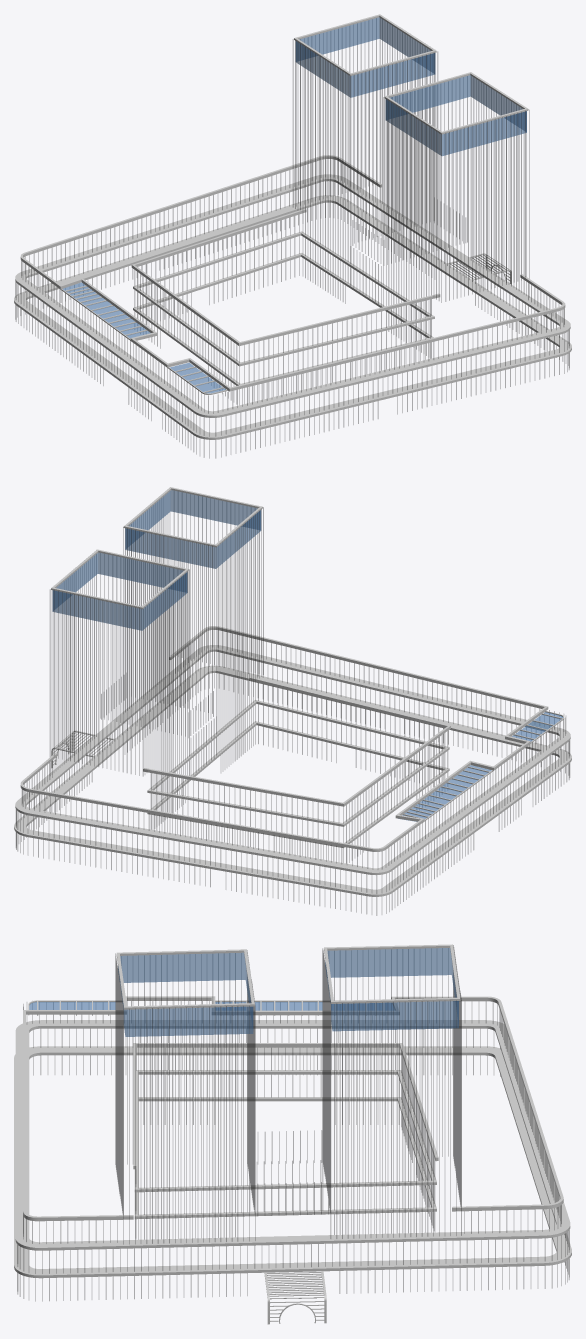
File: Border.obj
3 renders of one model, top to bottom at view 1: azimuth 30°, elevation 25°; view 2: azimuth 150°, elevation 25°; view 3: azimuth 270°, elevation 25°, orthographic. The views are drawn at different scales.
Visible parts, largest first — view 1: GlassLine1, Line18, Line19, Line22, Line20, GlassLine2, Box1536, Box1535, Line21, Rectangle02; view 2: GlassLine1, Line18, Line19, Line22, Line20, GlassLine2, Box1536, Box1535, Line21, Rectangle02; view 3: GlassLine1, Line18, Line19, Line22, Line20, GlassLine2, Box1536, Line21, Box1535, Rectangle02.
Boxes of the visible parts, x1,y1,x2,y2 form: GlassLine1: (293,39,529,358); Line18: (15,174,570,417); Line19: (14,195,571,439); Line22: (295,17,526,155); Line20: (20,155,565,391); GlassLine2: (15,181,569,458); Box1536: (134,215,430,404); Box1535: (21,159,564,413); Line21: (294,14,528,134); Rectangle02: (63,282,225,393); GlassLine1: (50,507,263,823); Line18: (15,645,570,874); Line19: (14,665,571,896); Line22: (52,490,261,630); Line20: (20,626,548,851); GlassLine2: (16,652,569,915); Box1536: (151,683,447,863); Box1535: (22,630,565,868); Line21: (51,487,262,609); Rectangle02: (398,712,562,821); GlassLine1: (115,945,461,1244); Line18: (15,1020,570,1250); Line19: (14,1046,571,1278); Line22: (118,948,458,1036); Line20: (23,996,563,1221); GlassLine2: (17,1029,569,1301); Box1536: (135,1048,434,1238); Line21: (116,944,460,1009); Box1535: (23,1001,561,1243); Rectangle02: (29,1002,393,1010).
Bounding box in the file's own units: 6117 × 3333 × 5774.
